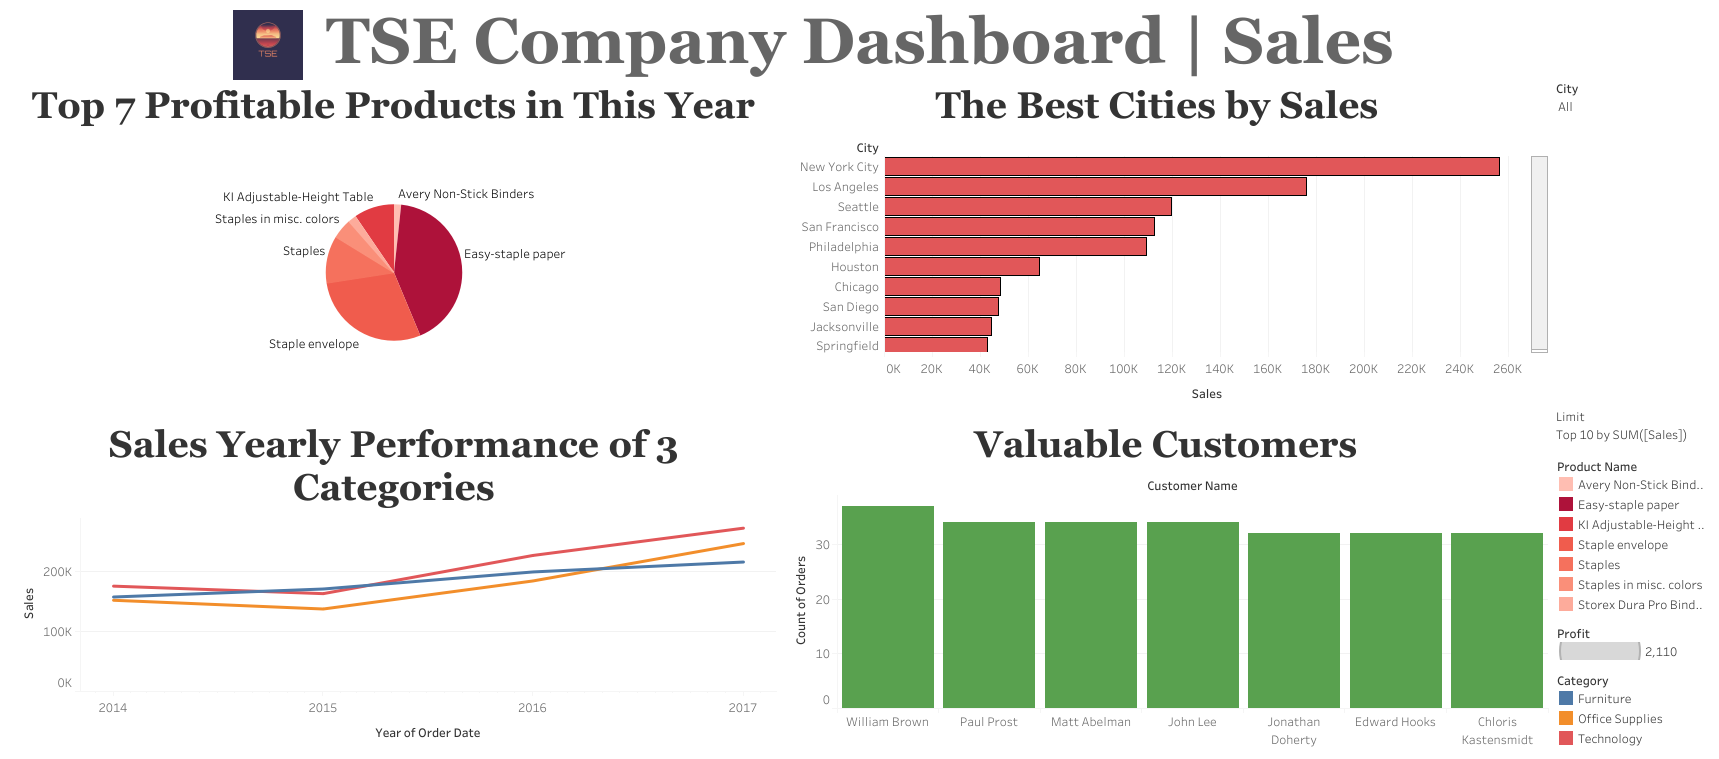

The dashboard page shown, as its layout file describes it:
{"tool":"tableau","page":{"name":"Dashboard 1","canvas":[1000,1000],"units":"permille","ordinal":0},"visuals":[{"type":"text","box":[4.7,10.5,990.6,86.8]},{"type":"image","param":"Image/a0e6bd2db70c4de483437fbac74293be.png","box":[66.7,13.2,178.8,92.1]},{"type":"worksheet","title":"Top 7 Profitable Products","mark":"Pie","box":[4.7,97.4,448,446.1]},{"type":"worksheet","title":"The Best Cities by Sales","mark":"Bar","rows":["City"],"cols":["Sales"],"box":[452.7,97.4,448.2,446.1]},{"type":"filter","title":"The Best Cities by Sales","param":"[federated.1xydqow0v3omo910p5l7f1xc7ipi].[none:City:nk]","box":[900.9,97.4,94.4,500]},{"type":"worksheet","title":"Sales-Yearly Performance","mark":"Automatic","rows":["Sales"],"cols":["Order Date"],"box":[4.7,543.4,448,446]},{"type":"worksheet","title":"Valuable Customers","mark":"Bar","rows":["Orders_E81ED425CA8549D68AFFD530BE99C4BC"],"cols":["Customer Name"],"box":[452.7,543.4,448.2,446]},{"type":"legend","title":"Top 7 Profitable Products","param":"[federated.1xydqow0v3omo910p5l7f1xc7ipi].[none:Product Name:nk]","box":[900.9,597.4,94.4,218.4]},{"type":"legend","title":"Top 7 Profitable Products","param":"[federated.1xydqow0v3omo910p5l7f1xc7ipi].[sum:Profit:qk]","box":[900.9,815.8,94.4,60.5]},{"type":"legend","title":"Sales-Yearly Performance","param":"[federated.1xydqow0v3omo910p5l7f1xc7ipi].[none:Category:nk]","box":[900.9,876.3,94.4,113.2]}]}

Visuals, with their boxes on the dashboard's canvas, which has no fixed pixel size, in thousandths of its width and height (x1, y1, x2, y2). These are canvas units, not pixel positions in the 1719x759 screenshot, which may show the page scaled, cropped or inside an application window:
text: pyautogui.locateOnScreen(5, 10, 995, 97)
image: pyautogui.locateOnScreen(67, 13, 246, 105)
"Top 7 Profitable Products" worksheet (Pie marks): pyautogui.locateOnScreen(5, 97, 453, 544)
"The Best Cities by Sales" worksheet (Bar marks): pyautogui.locateOnScreen(453, 97, 901, 544)
"The Best Cities by Sales" filter: pyautogui.locateOnScreen(901, 97, 995, 597)
"Sales-Yearly Performance" worksheet: pyautogui.locateOnScreen(5, 543, 453, 989)
"Valuable Customers" worksheet (Bar marks): pyautogui.locateOnScreen(453, 543, 901, 989)
"Top 7 Profitable Products" legend: pyautogui.locateOnScreen(901, 597, 995, 816)
"Top 7 Profitable Products" legend: pyautogui.locateOnScreen(901, 816, 995, 876)
"Sales-Yearly Performance" legend: pyautogui.locateOnScreen(901, 876, 995, 990)
